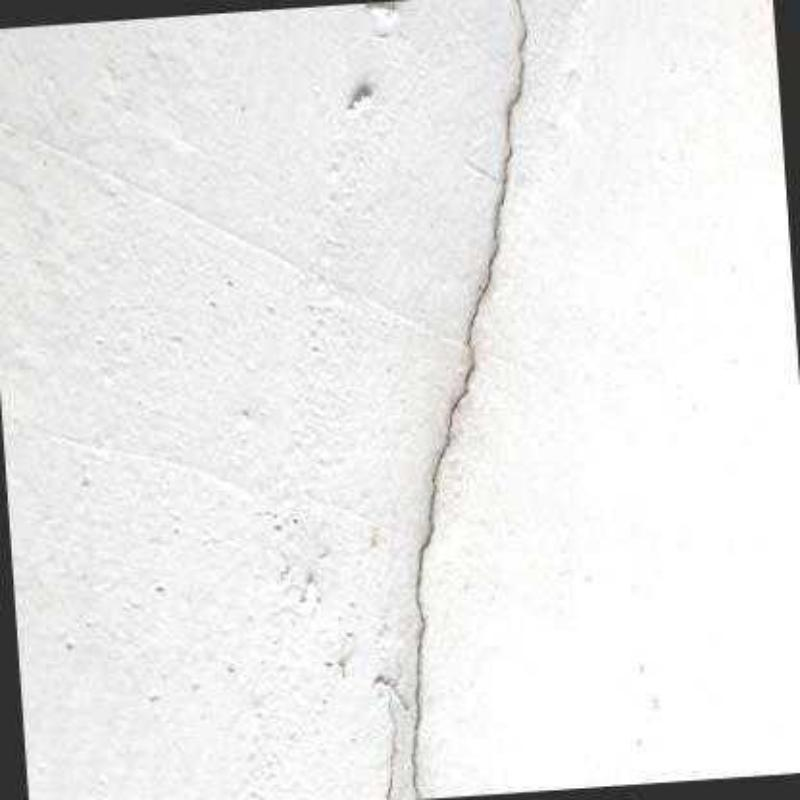crack: (412, 0, 529, 798), (386, 650, 401, 799)
